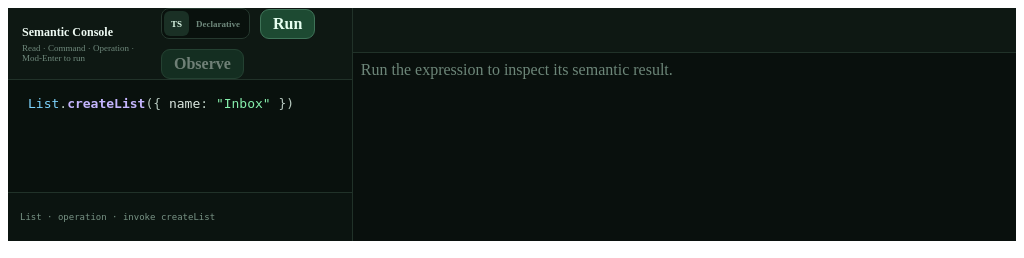
it: Console actions › reports an unsuccessful Operation result without publishing action success
Click the button "Run" at (288, 24), box [260, 8, 315, 38]
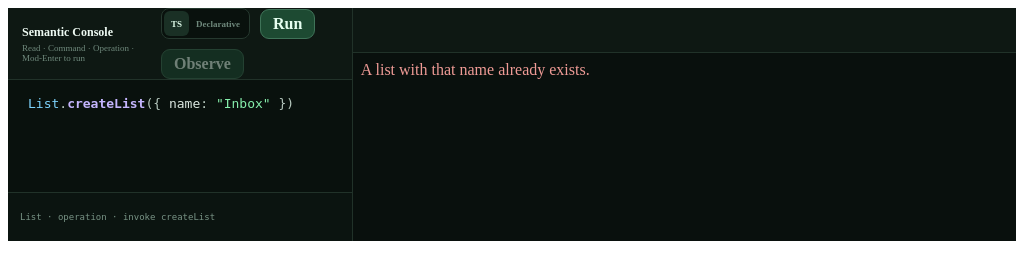
Now the message reads "A list with that name already exists.", box [361, 61, 590, 78]
